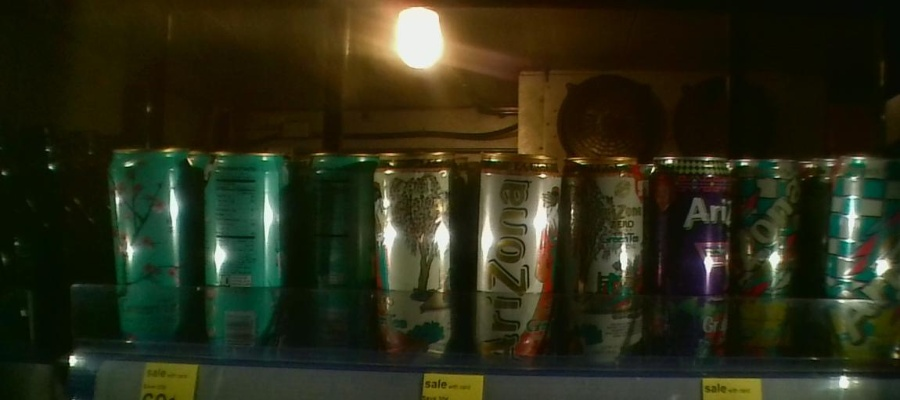bottle: (470, 141, 561, 365), (103, 136, 193, 347), (199, 144, 290, 351), (650, 151, 733, 370), (819, 154, 900, 372), (373, 149, 458, 356), (564, 152, 640, 367), (299, 133, 371, 344), (741, 150, 801, 363)
